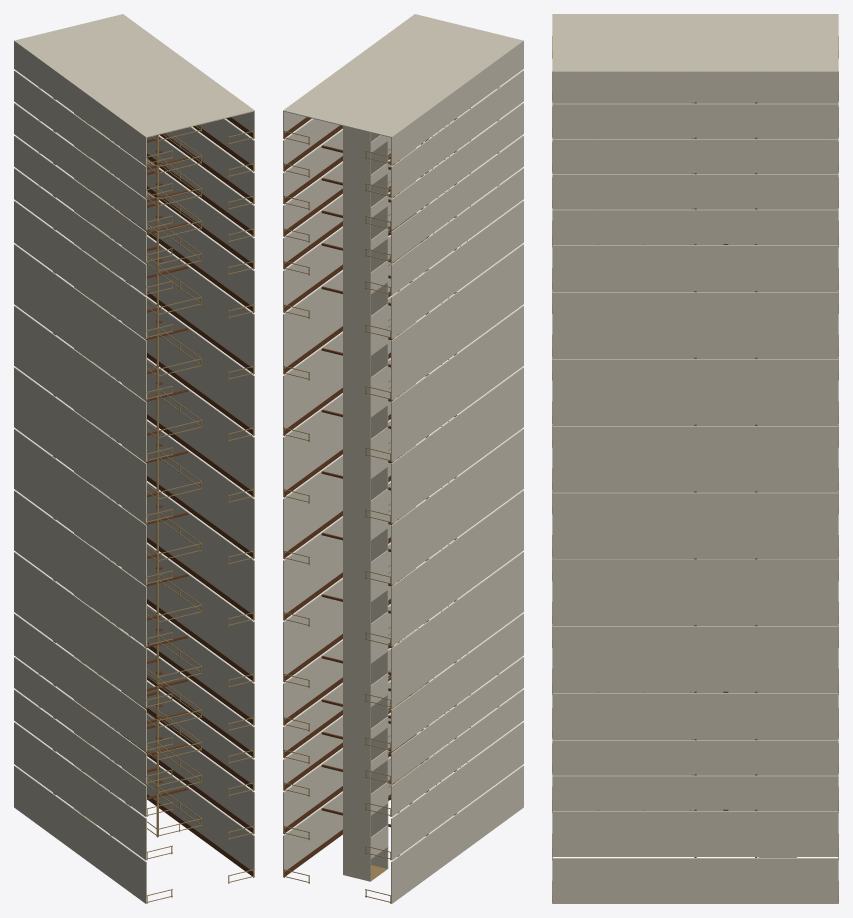
Rendered from AST-CIR-005_spine_core.glb.
3 views of the same model, side by side, from view 1: azimuth 30°, elevation 25°; view 2: azimuth 150°, elevation 25°; view 3: azimuth 270°, elevation 25° (orthographic). The views are drawn at different scales.
Visible parts, largest first — view 1: CORE_BATCH_ivory_enamel, CORE_BATCH_warm_walnut, CORE_BATCH_champagne_metal; view 2: CORE_BATCH_ivory_enamel, CORE_BATCH_warm_walnut, CORE_BATCH_champagne_metal; view 3: CORE_BATCH_ivory_enamel, CORE_BATCH_champagne_metal.
Boxes of the visible parts, x1,y1,x2,y2 form: CORE_BATCH_ivory_enamel: (14,14,254,903); CORE_BATCH_warm_walnut: (53,97,253,875); CORE_BATCH_champagne_metal: (38,87,254,903); CORE_BATCH_ivory_enamel: (283,14,523,903); CORE_BATCH_warm_walnut: (284,117,456,875); CORE_BATCH_champagne_metal: (283,87,499,903); CORE_BATCH_ivory_enamel: (552,14,838,903); CORE_BATCH_champagne_metal: (552,36,838,902).
Bounding box in the file's own units: 15.76 × 106 × 33.08.
4 materials, 3 textured.
